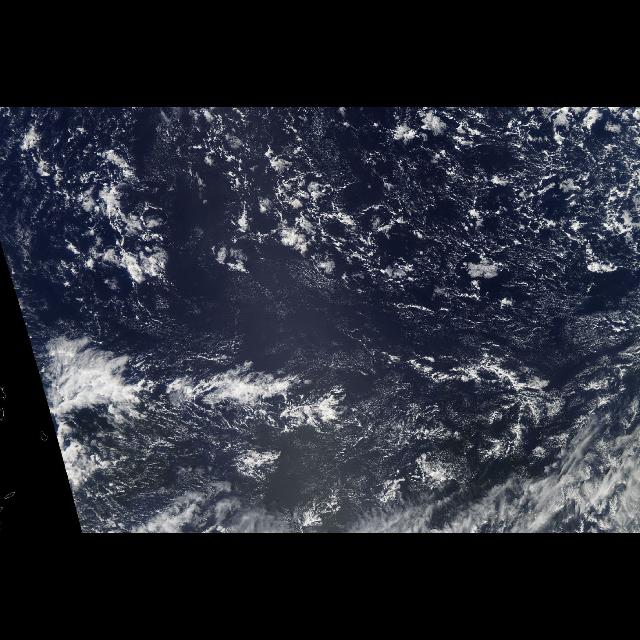Gravel: (21, 108, 633, 362)
Sugar: (117, 288, 578, 350)
